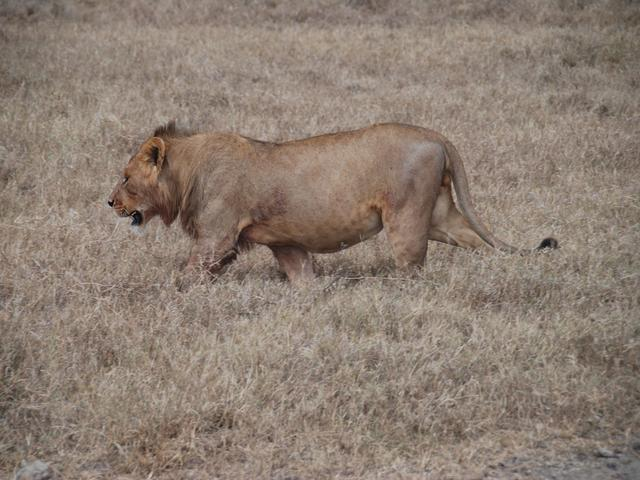lion: (74, 60, 586, 289)
